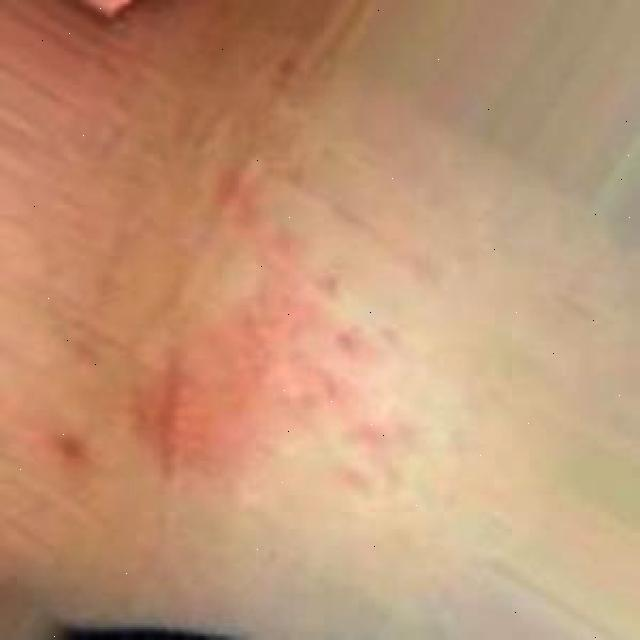Shingles: (115, 178, 423, 501)
